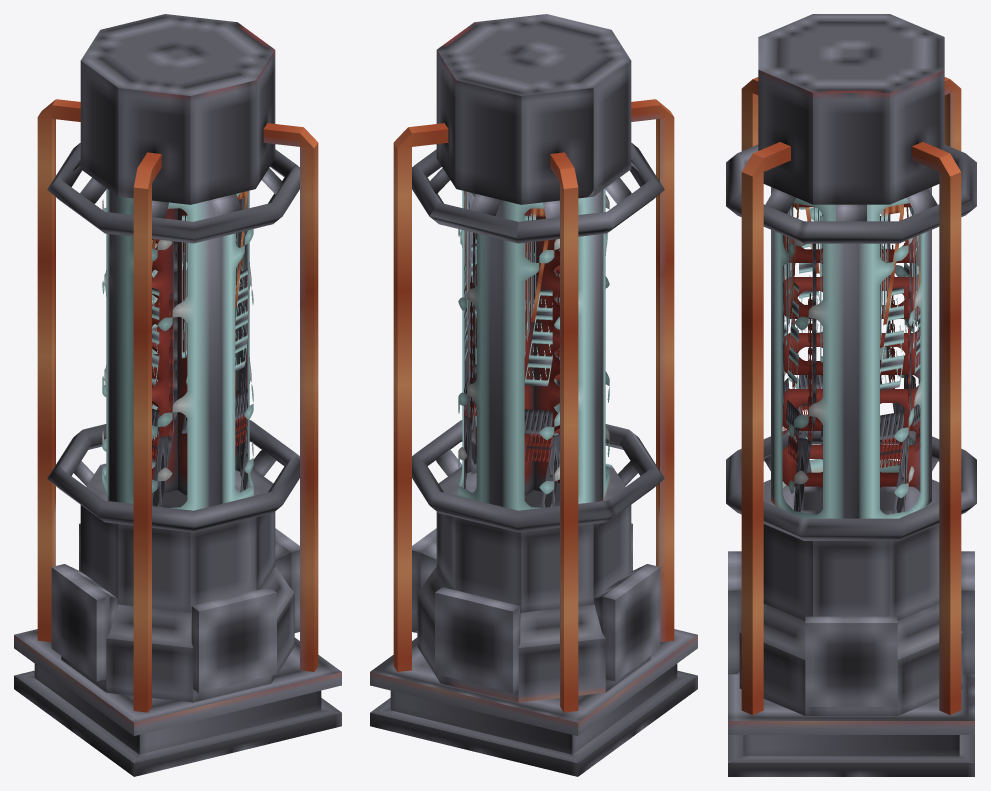
File: mixer.obj
3 views of the same model, side by side, from view 1: azimuth 30°, elevation 25°; view 2: azimuth 150°, elevation 25°; view 3: azimuth 270°, elevation 25° (orthographic). The views are drawn at different scales.
Visible parts, largest first — view 1: Main, Fluid, Mixer; view 2: Main, Fluid, Mixer; view 3: Main, Fluid, Mixer.
Part boxes in pixels (left/top/right/bottom): Main: left=14, top=14, right=341, bottom=776; Fluid: left=152, top=191, right=247, bottom=506; Mixer: left=152, top=208, right=236, bottom=495; Main: left=370, top=14, right=697, bottom=776; Fluid: left=464, top=191, right=559, bottom=507; Mixer: left=475, top=209, right=559, bottom=495; Main: left=726, top=14, right=976, bottom=776; Fluid: left=782, top=203, right=920, bottom=513; Mixer: left=782, top=203, right=920, bottom=491.
Size of the model in its own units: 1.02 by 3 by 1.02.
